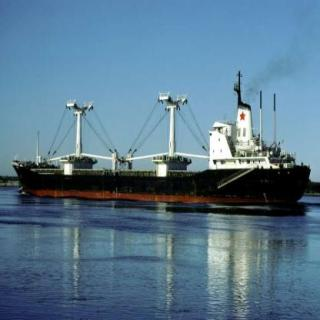Bulk Carrier: (7, 81, 311, 194)
